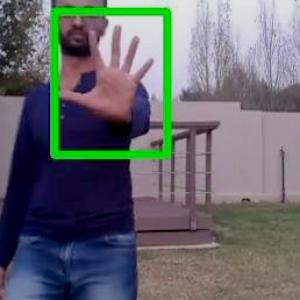follow_hand: (52, 18, 160, 122)
